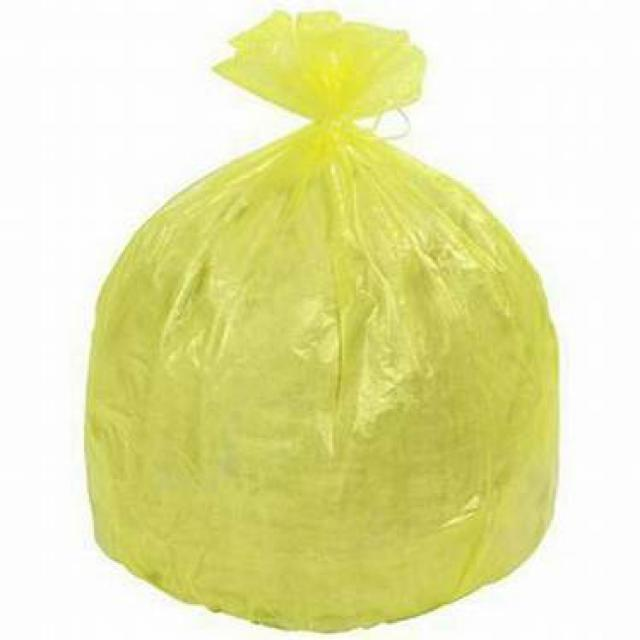waste: (84, 20, 562, 624)
